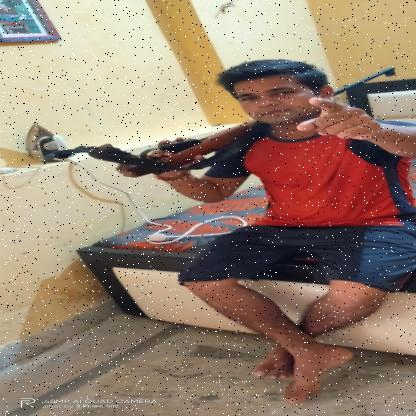rifle: (85, 66, 399, 180)
